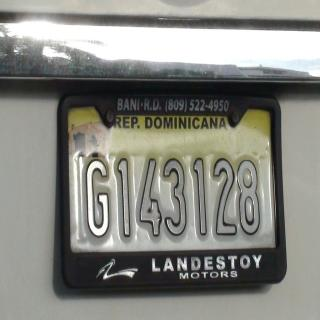license: (68, 110, 277, 254)
